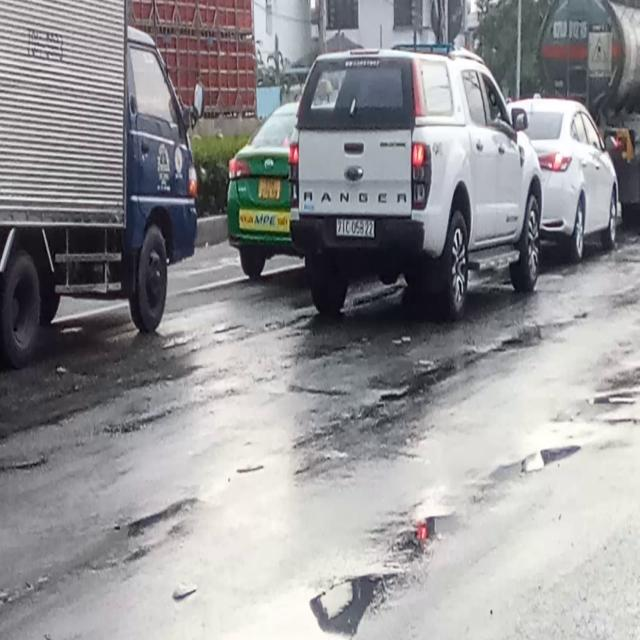bien_trang: (333, 216, 379, 242)
